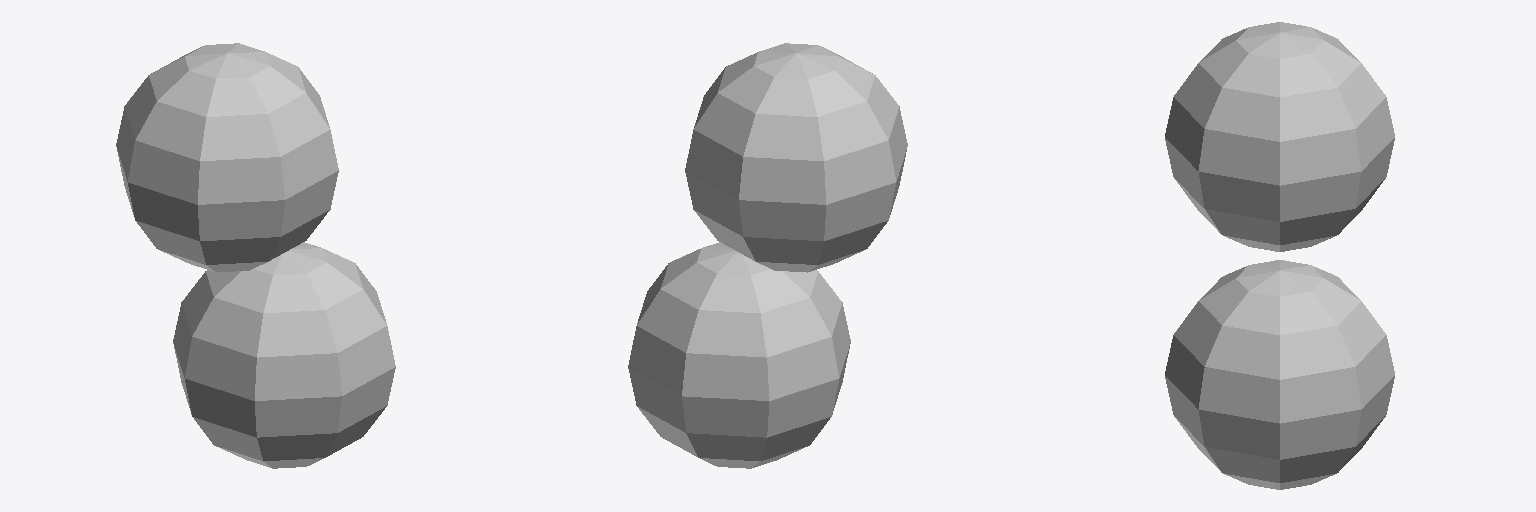
Rendered from light_bulb_1.obj.
3 renders of one model, left to right at view 1: azimuth 30°, elevation 25°; view 2: azimuth 150°, elevation 25°; view 3: azimuth 270°, elevation 25°, orthographic.
Parts seen in each view (by area): view 1: Sphere.001; view 2: Sphere.001; view 3: Sphere.001.
Boxes of the visible parts, <box> form: Sphere.001: <box>116,43,395,468</box>; Sphere.001: <box>628,43,907,468</box>; Sphere.001: <box>1165,22,1394,489</box>.
Size of the model in its own units: 1.03 by 1.6 by 0.8.